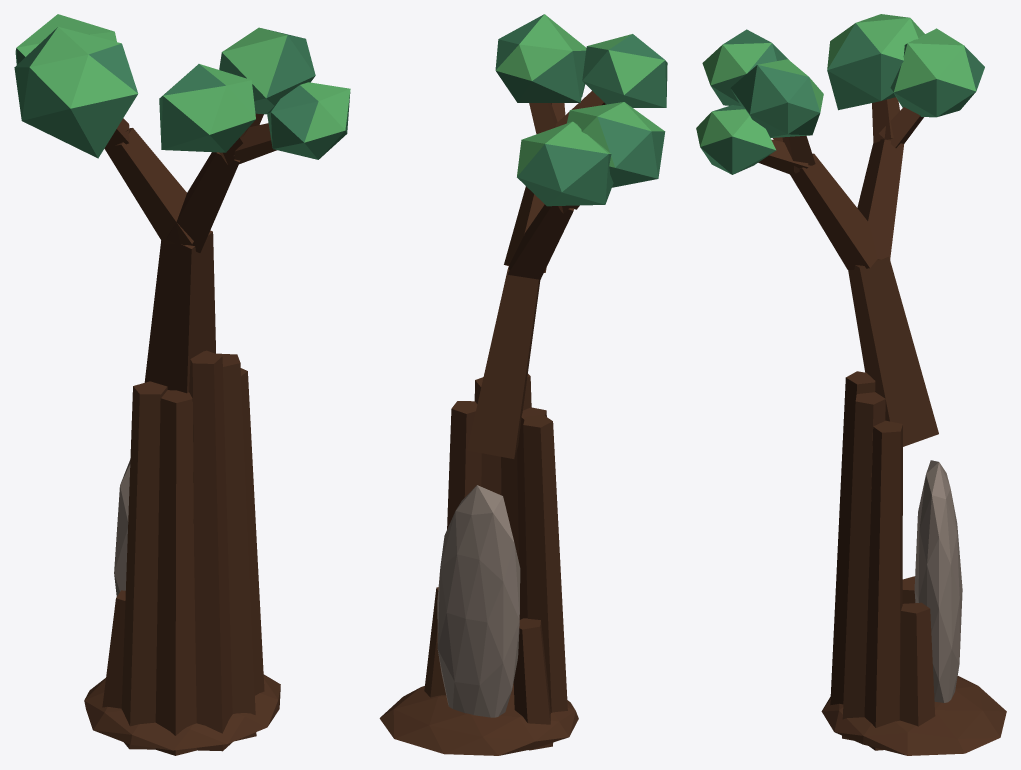
Rendered from hollow_tree.glb.
3 views of the same model, side by side, from view 1: azimuth 30°, elevation 25°; view 2: azimuth 150°, elevation 25°; view 3: azimuth 270°, elevation 25° (orthographic). The views are drawn at different scales.
Parts seen in each view (by area): view 1: hollow_tree.001; view 2: hollow_tree.001; view 3: hollow_tree.001.
Part boxes in pixels (box(x1,y1,x2,y2)): hollow_tree.001: box(14, 14, 350, 755); hollow_tree.001: box(379, 14, 667, 755); hollow_tree.001: box(696, 14, 1006, 755).
Size of the model in its own units: 1.87 by 4.9 by 2.04.
